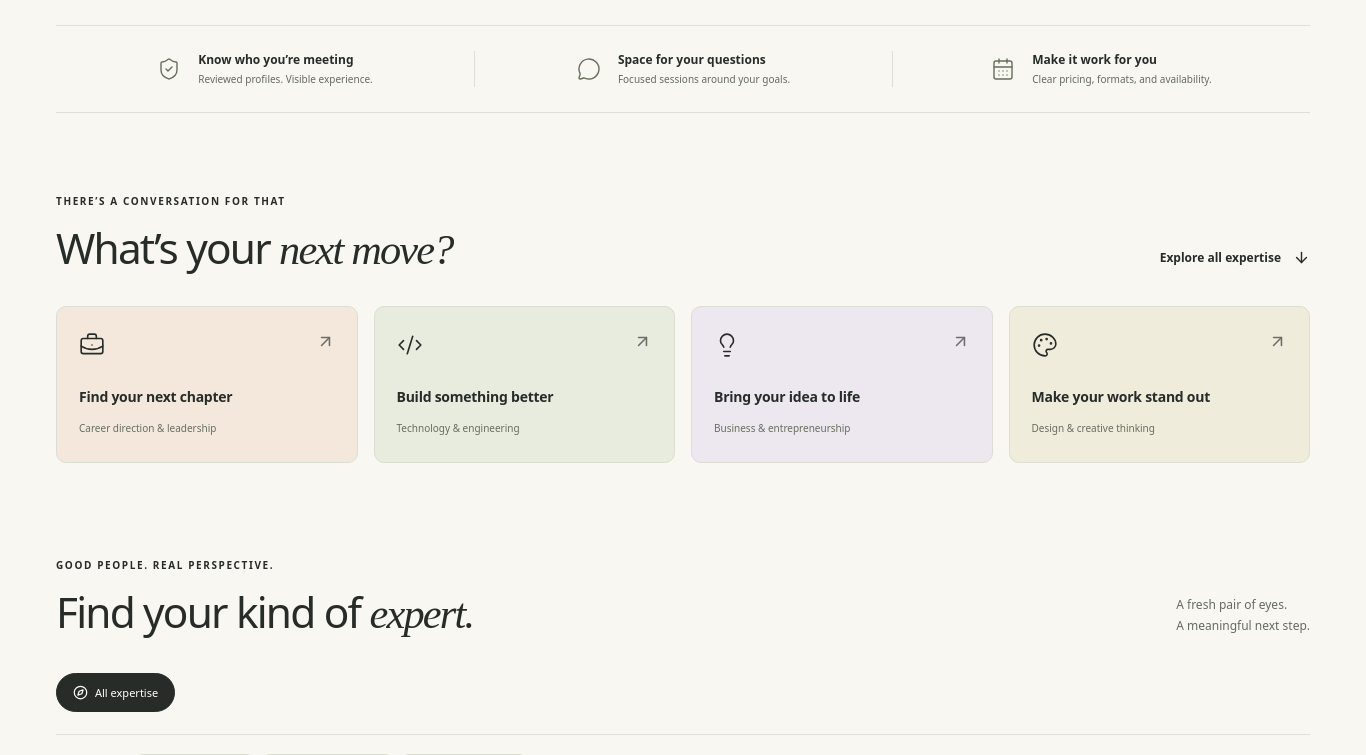
Test case: customer UI › turns a goal shortcut into a real expert search
The width and height of the screenshot is (1366, 755).
(page scrolled)
Click the button "Build something better Technology & engineering" at (524, 384), box [374, 306, 675, 463]
(page scrolled)
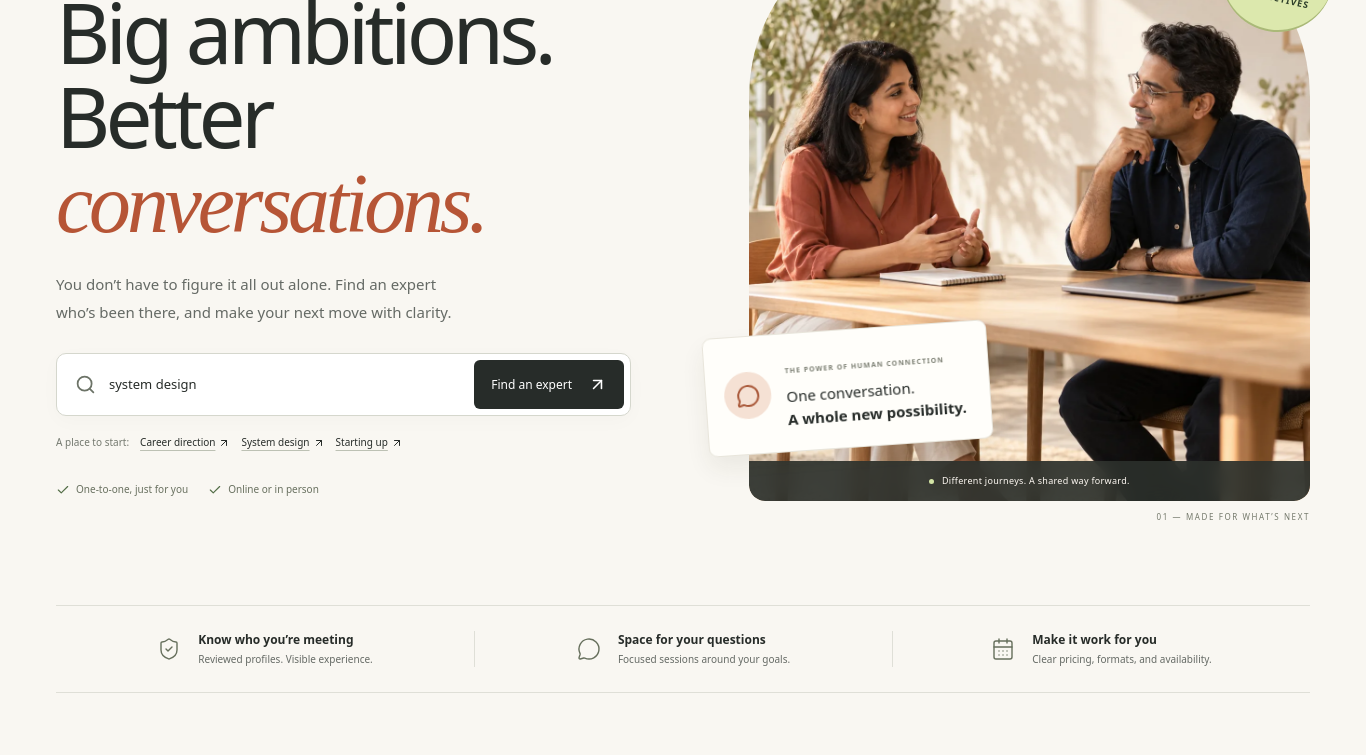
Expected: the field named "Search experts" holds "system design", [106, 365, 464, 404]
